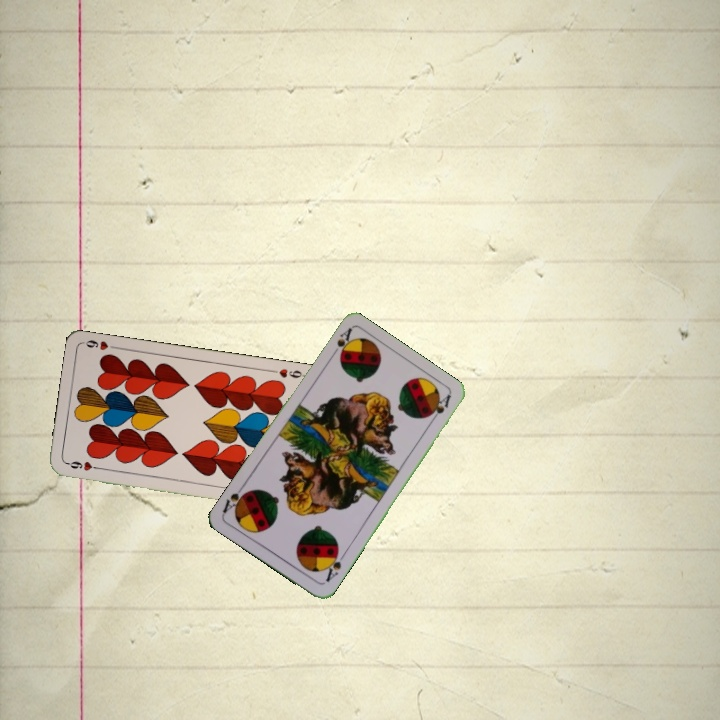H9: (267, 365, 308, 381), (63, 457, 103, 473)
SA: (321, 546, 348, 585), (327, 325, 355, 361)
